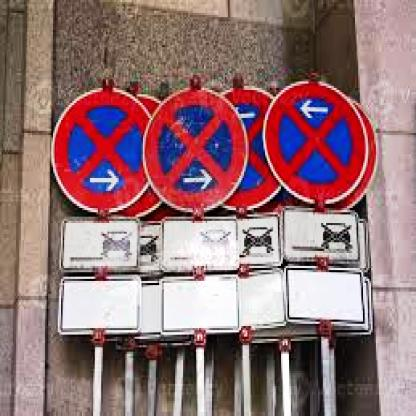No stopping: (272, 82, 373, 202), (152, 86, 246, 214), (46, 85, 141, 210)
